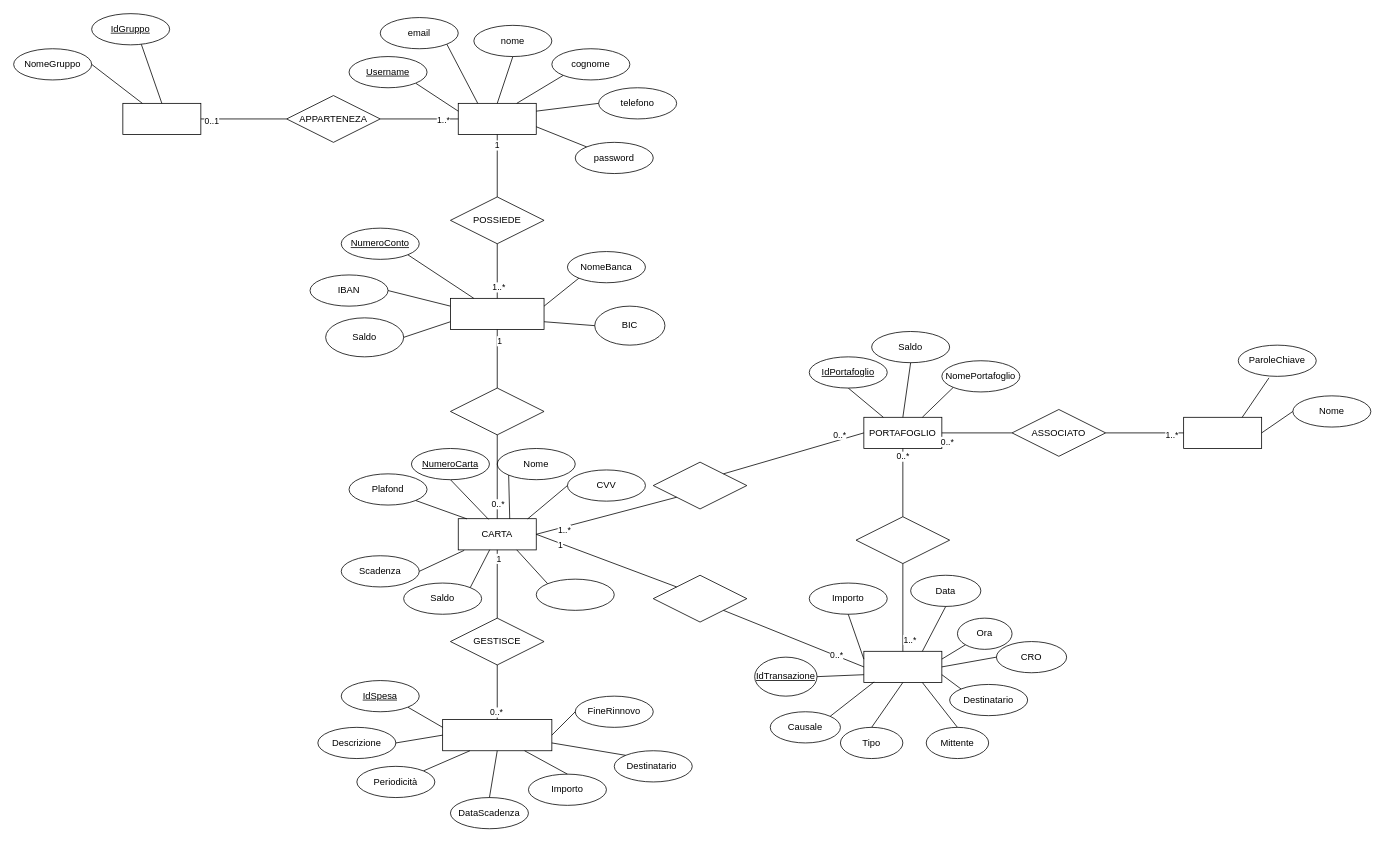
Some shapes in this 1385 by 849 pixel diagram are drawn without their labels. The centre of each missing label's shape, as x and y in pixels:
"ASSOCIARE" belongs at (497,411).
"CATEGORIA" belongs at (1222,432).
"COLLEGATO A" belongs at (699,485).
"CONTIENE" belongs at (902,540).
"CONTOCORRENTE" belongs at (497,314).
"EFFETTUA" belongs at (699,598).
"FAMIGLIA" belongs at (161,119).
"SPESEPROGRAMMATE" belongs at (497,735).
"TipoCarta" belongs at (574,594).
"TRANSAZIONE" belongs at (902,666).
"UTENTE" belongs at (496,119).
